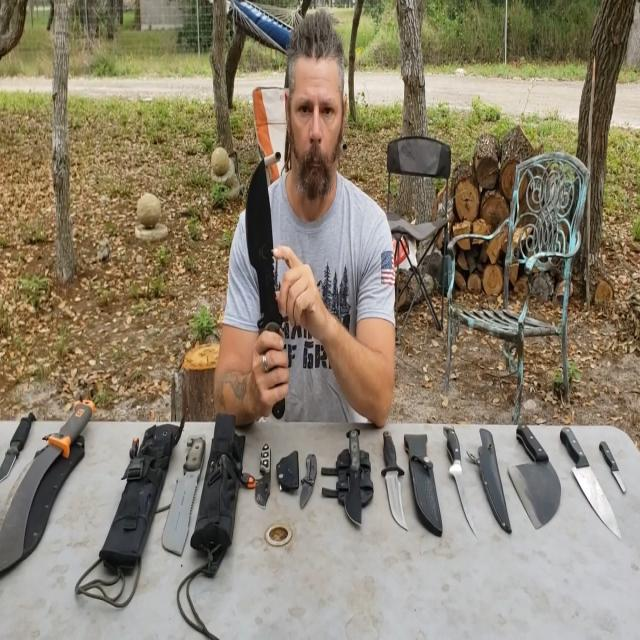knife: (0, 380, 99, 579), (244, 154, 304, 405), (559, 410, 627, 534), (504, 405, 562, 543), (379, 409, 422, 559), (436, 400, 476, 546), (164, 432, 205, 558), (590, 418, 640, 518), (0, 402, 43, 489), (351, 400, 370, 521), (257, 430, 277, 518), (297, 439, 317, 517)
